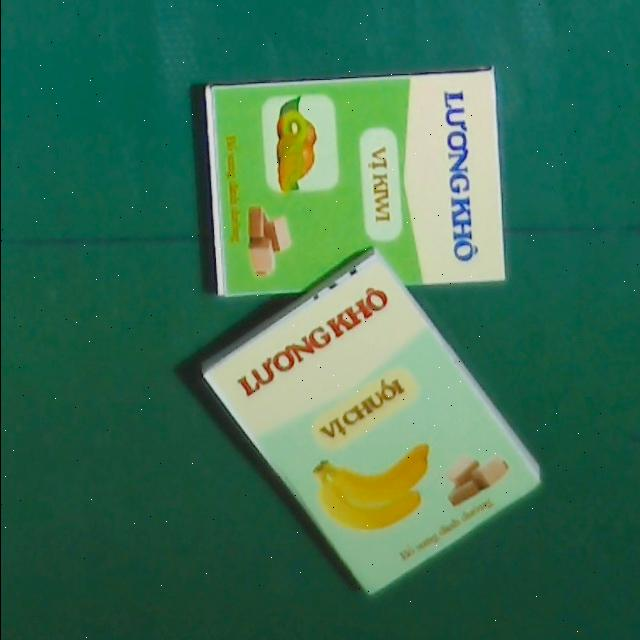chuoi: (194, 239, 548, 610)
kiwi: (204, 68, 506, 296)
